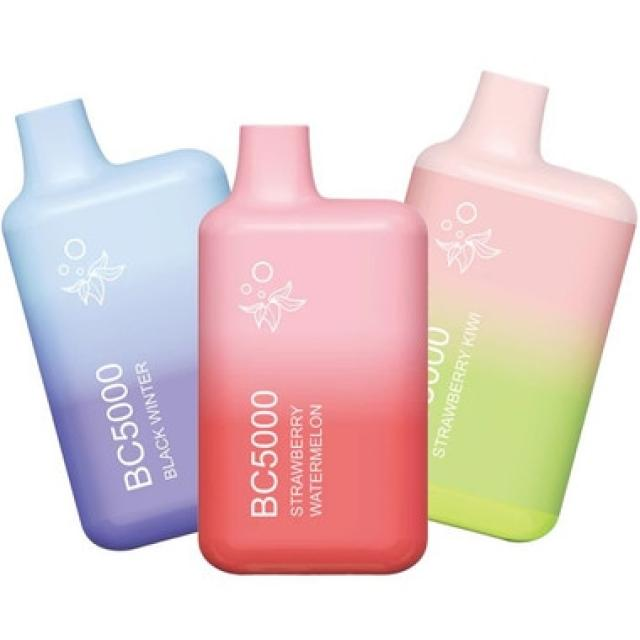Vapes: (196, 121, 430, 574)
